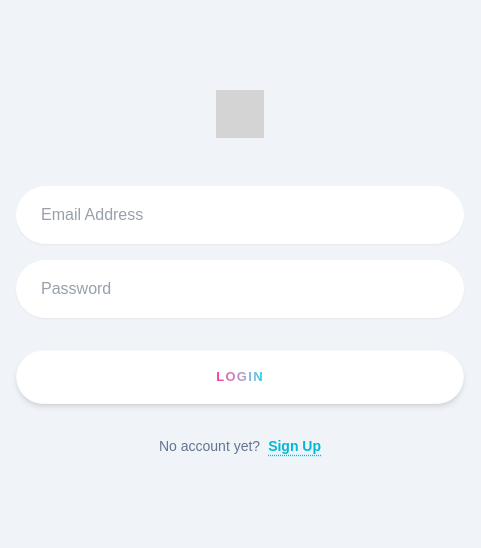
Scenario: AuthPage › toggles to signup mode when Sign Up link is clicked
This screenshot has width=481, height=548.
What coordinates should you click on to do the following:
click the button "Sign Up"
I would click on:
 (295, 446)
Its box is 268,436 -> 321,456.
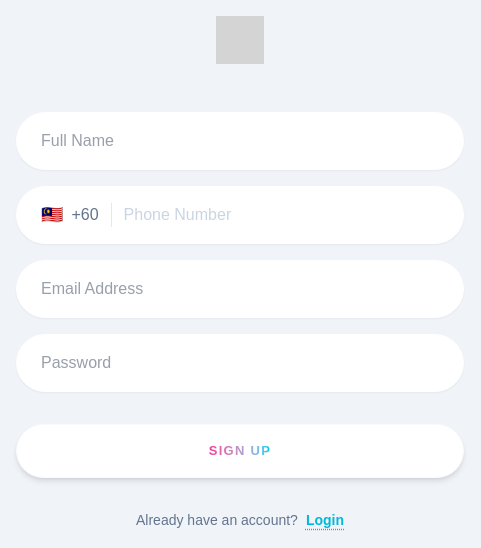
Check: the field with placeholder "Full Name" is shown, box 16,112 -> 464,170
Check: the field with placeholder "Phone Number" is shown, box 124,203 -> 439,227
